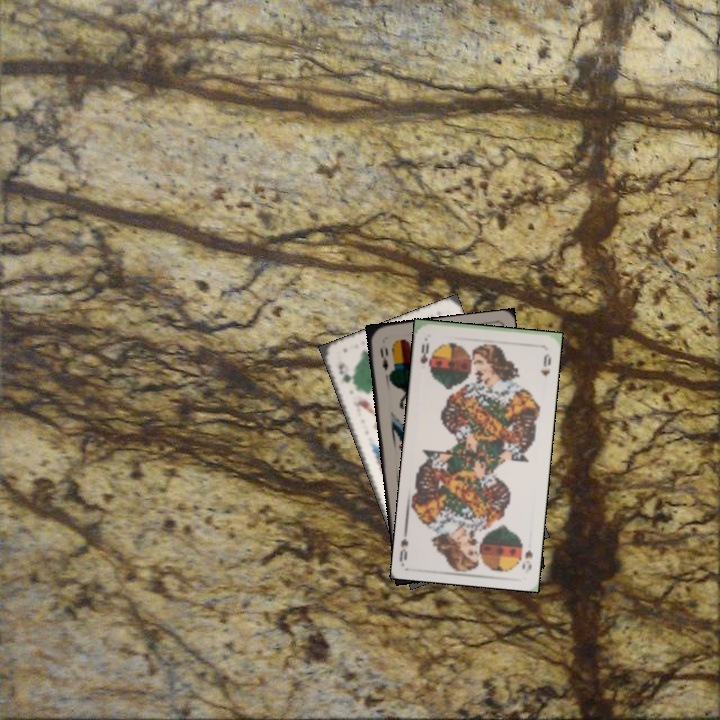EO: (376, 344, 391, 373)
GK: (334, 359, 358, 392)
SO: (518, 546, 535, 572), (416, 338, 431, 366)
